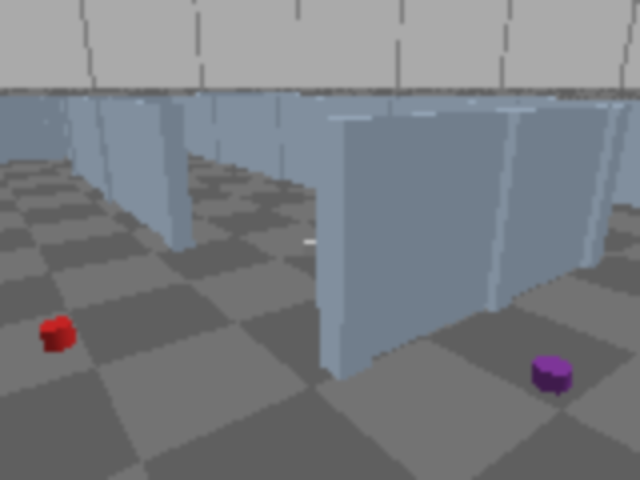puck: (531, 356, 573, 393), (41, 319, 75, 350)
